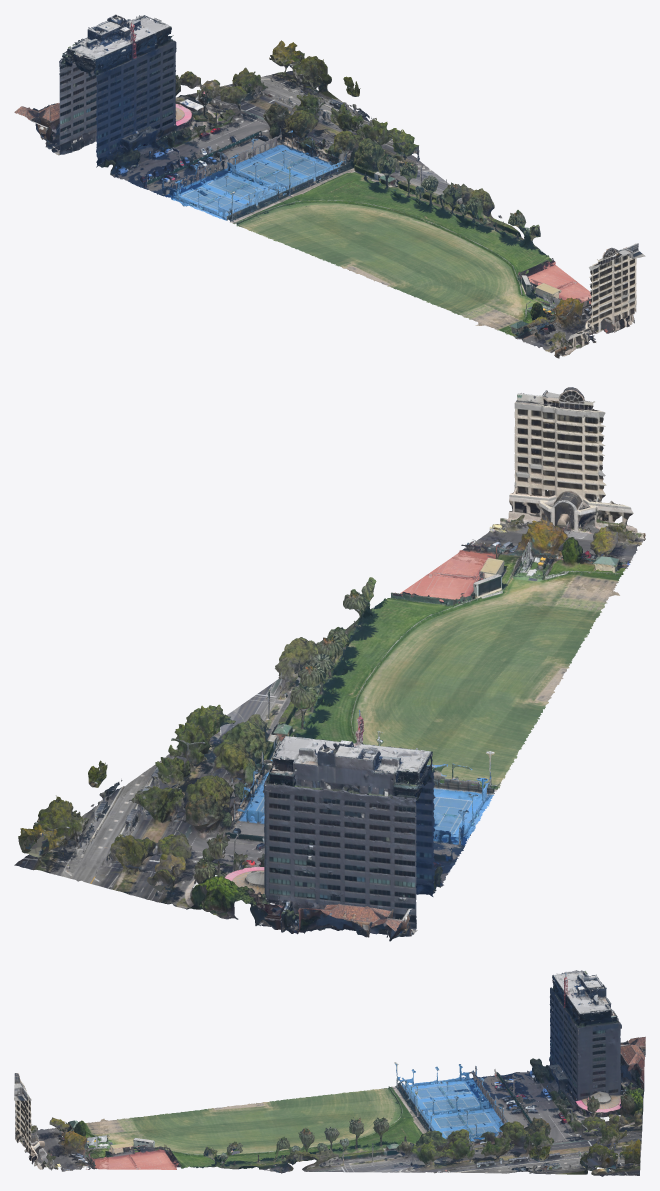
The model's file is context.glb.
3 renders of one model, top to bottom at view 1: azimuth 30°, elevation 25°; view 2: azimuth 150°, elevation 25°; view 3: azimuth 270°, elevation 25°, orthographic. The views are drawn at different scales.
Visible parts, largest first — view 1: City of Melbourne Photomesh 2020 E5-20 — nearby context; view 2: City of Melbourne Photomesh 2020 E5-20 — nearby context; view 3: City of Melbourne Photomesh 2020 E5-20 — nearby context.
Boxes of the visible parts, <box> form: City of Melbourne Photomesh 2020 E5-20 — nearby context: <box>14,14,645,358</box>; City of Melbourne Photomesh 2020 E5-20 — nearby context: <box>14,387,645,941</box>; City of Melbourne Photomesh 2020 E5-20 — nearby context: <box>14,970,645,1176</box>.
Bounding box in the file's own units: 127 × 60.55 × 285.
Materials: 5 (5 with a texture image).
